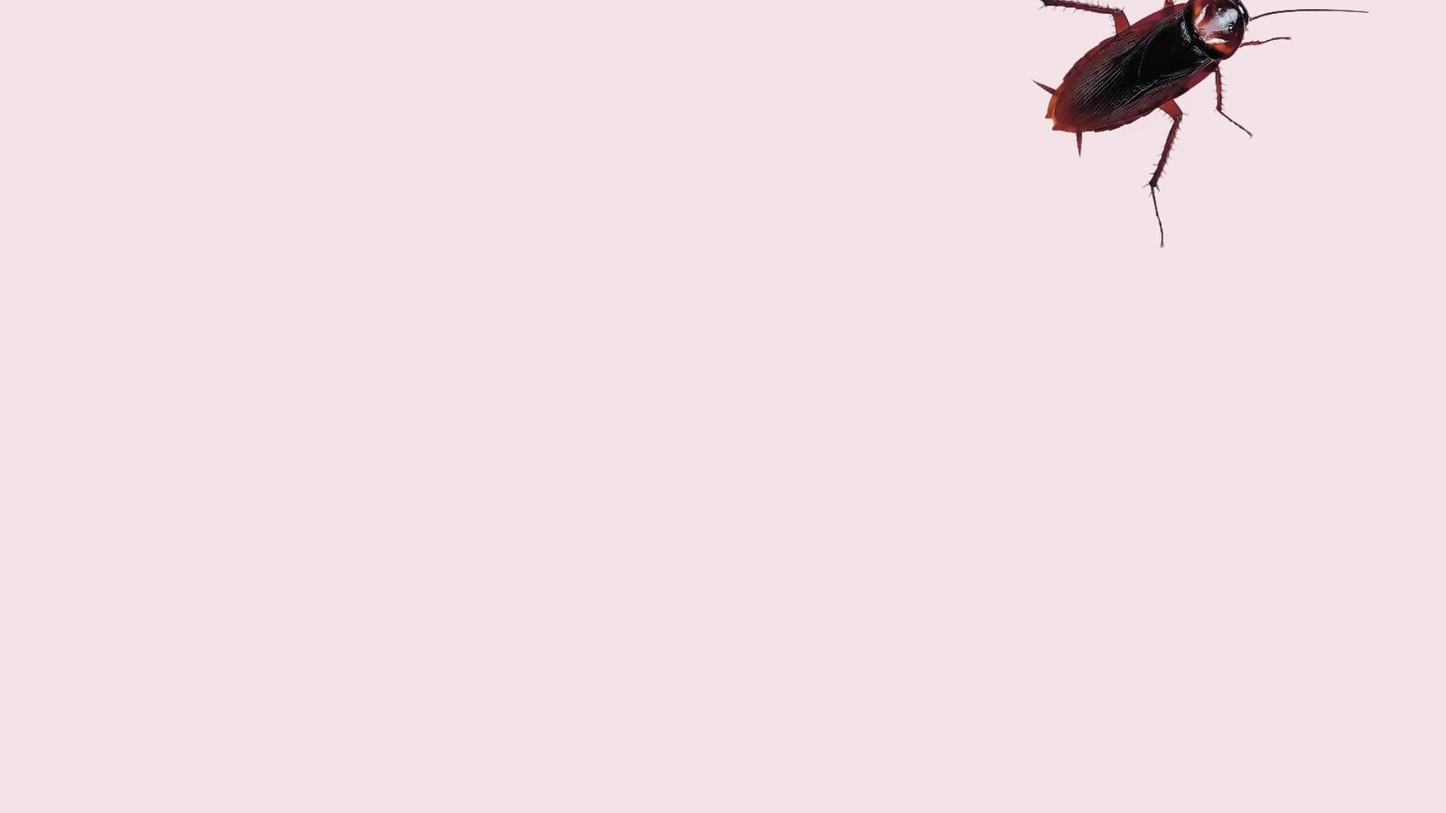cockroach: (1002, 0, 1356, 197)
